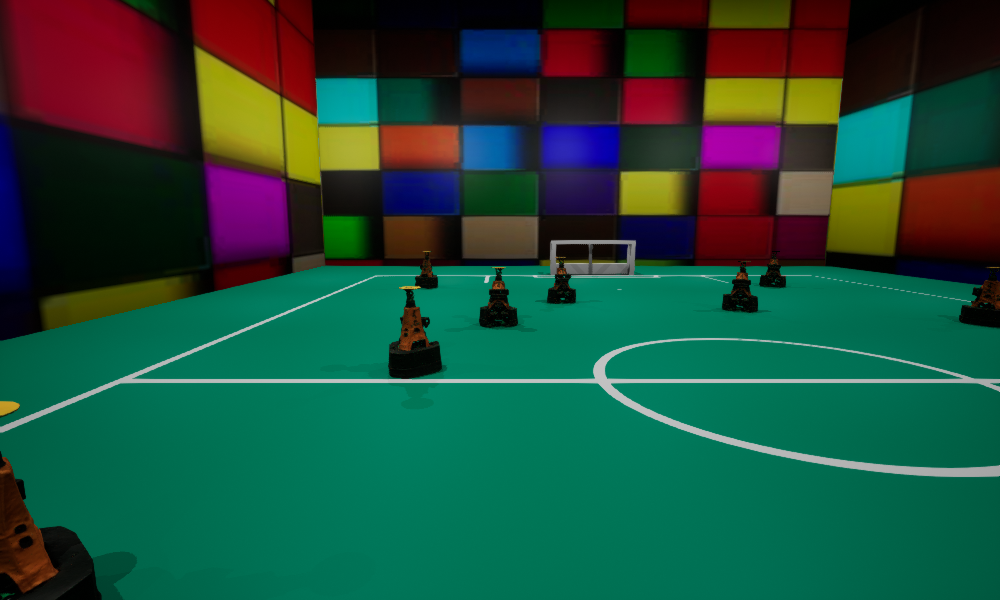o: (0, 401, 101, 599), (388, 286, 441, 378), (959, 267, 999, 327), (479, 267, 517, 327), (722, 261, 757, 311), (547, 257, 575, 303), (759, 251, 785, 286), (415, 251, 437, 288)
